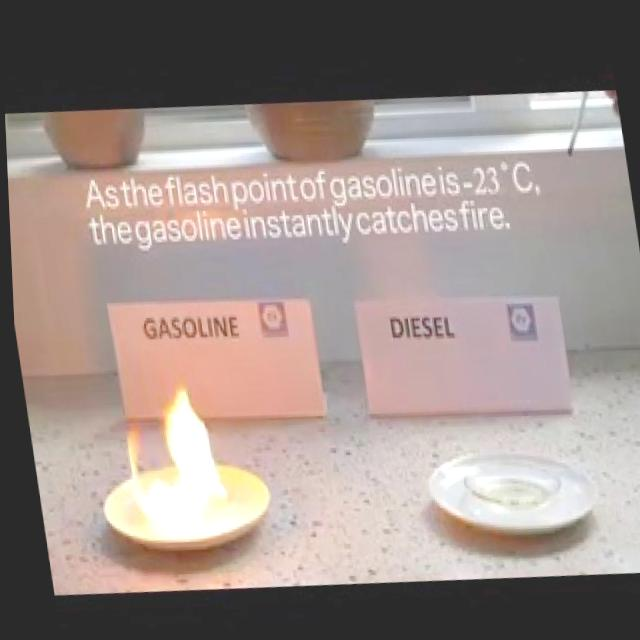Fire: (93, 373, 243, 549)
